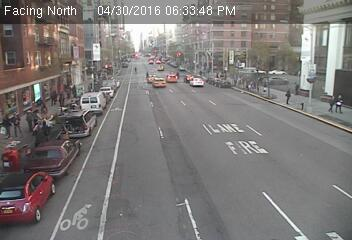neg: (135, 93, 160, 126), (122, 39, 144, 68), (45, 28, 65, 55), (246, 61, 266, 87), (276, 37, 294, 61), (26, 42, 44, 66), (161, 34, 179, 57), (86, 39, 102, 60), (220, 73, 235, 93), (225, 22, 238, 41)
pos: (7, 111, 26, 137), (321, 90, 337, 112), (335, 91, 350, 112), (281, 85, 296, 105), (68, 82, 83, 102), (45, 85, 59, 103)
